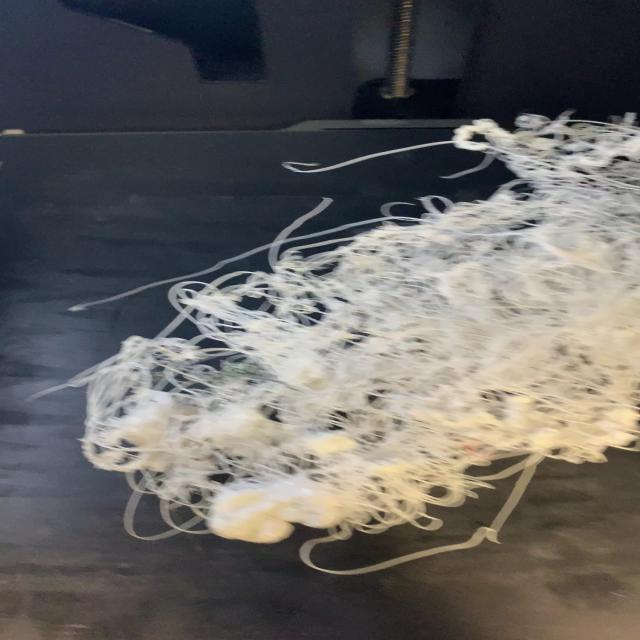spaghetti: (34, 108, 637, 577)
